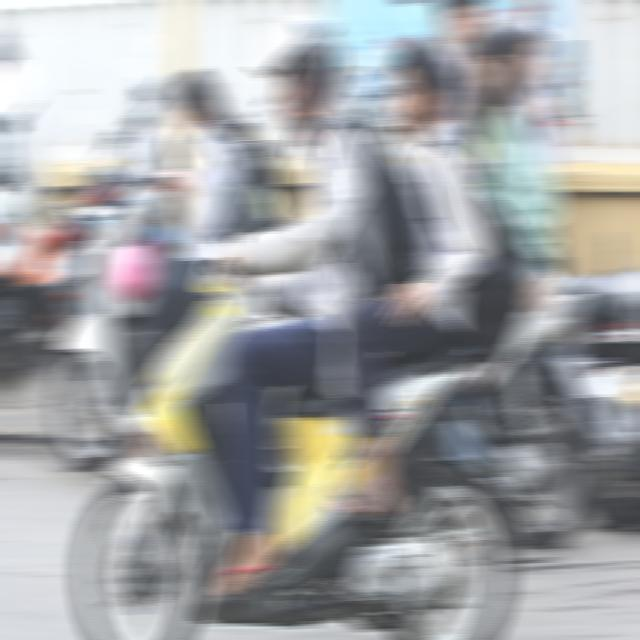With Helmet: (246, 12, 350, 128)
Without Helmet: (389, 32, 451, 132)
